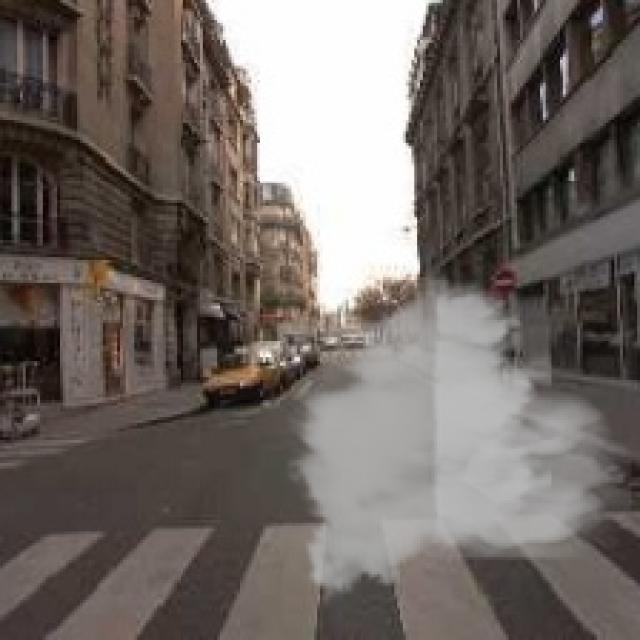smoke: (283, 263, 631, 611)
